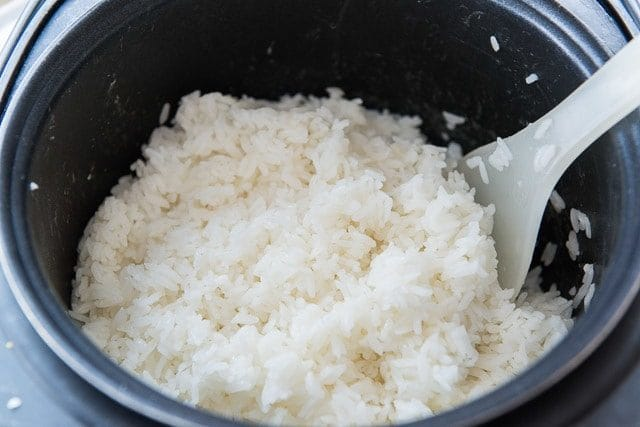rice: (65, 77, 575, 418)
